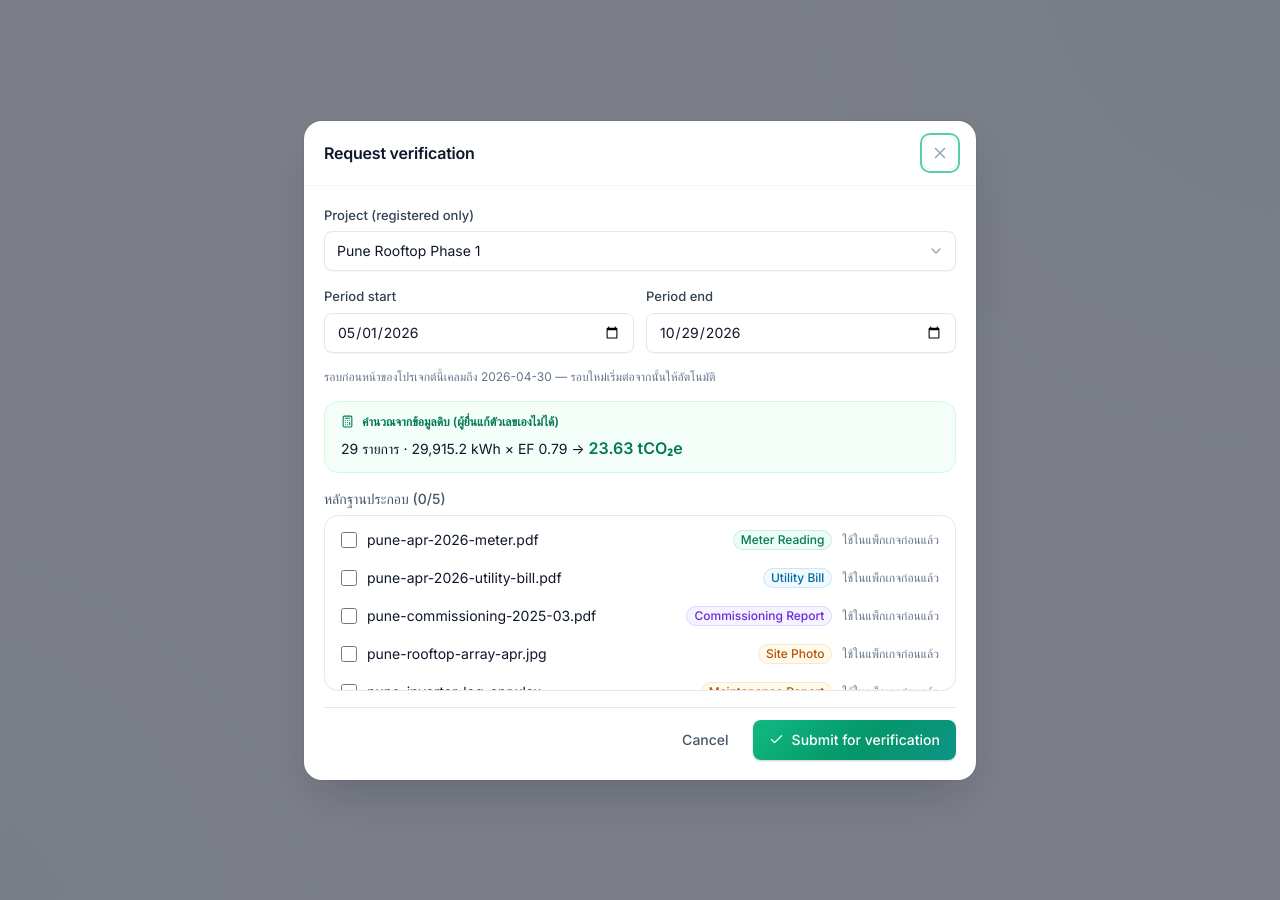
it: RequestVerificationModal › blocks submission when the period has no monitoring data
Type "1990-01-01" into the date field labelled "Period start". click: (479, 332)
box: [324,312,634,352]
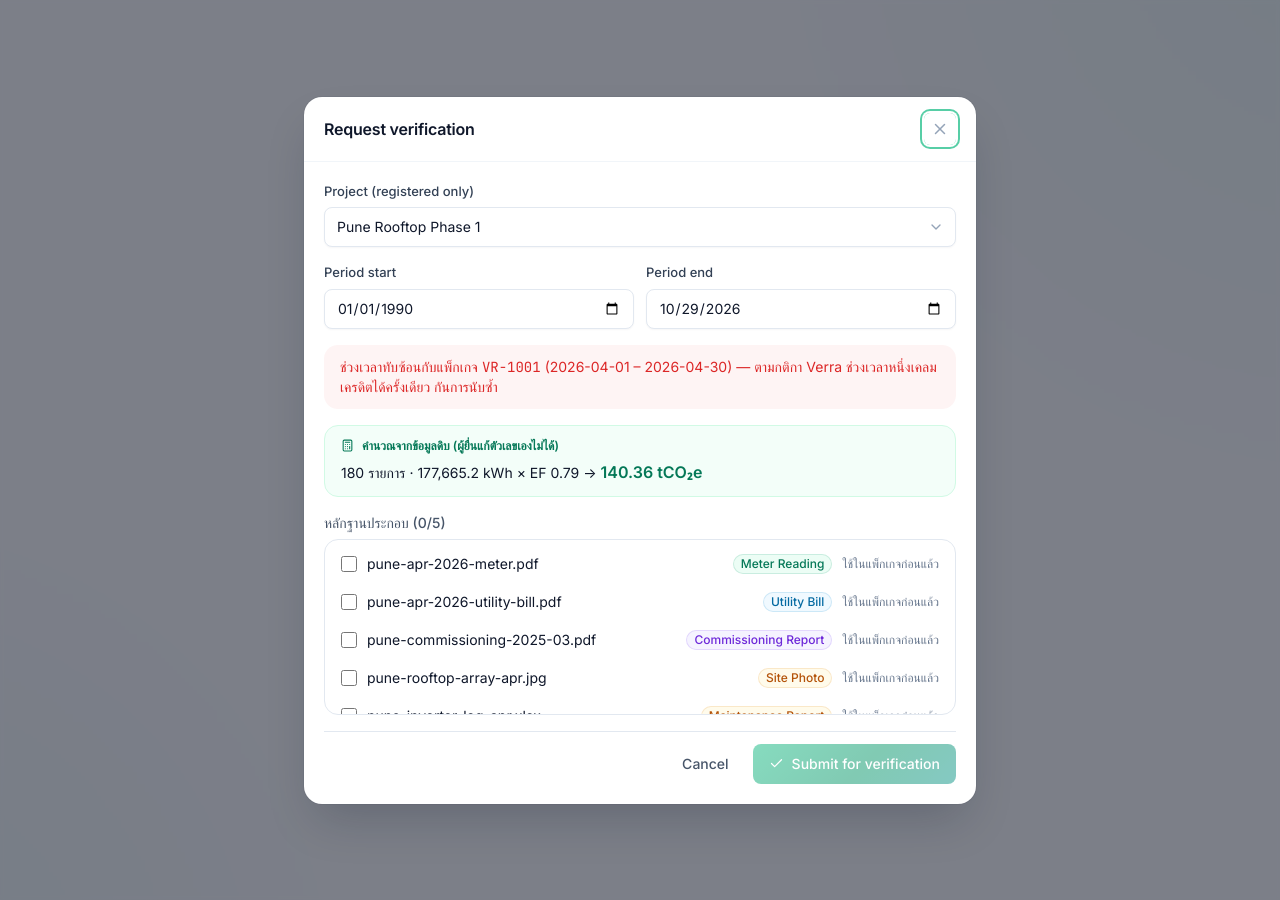
Type "1990-12-31" into the date field labelled "Period end". click: (801, 308)
box: [646,288,956,328]
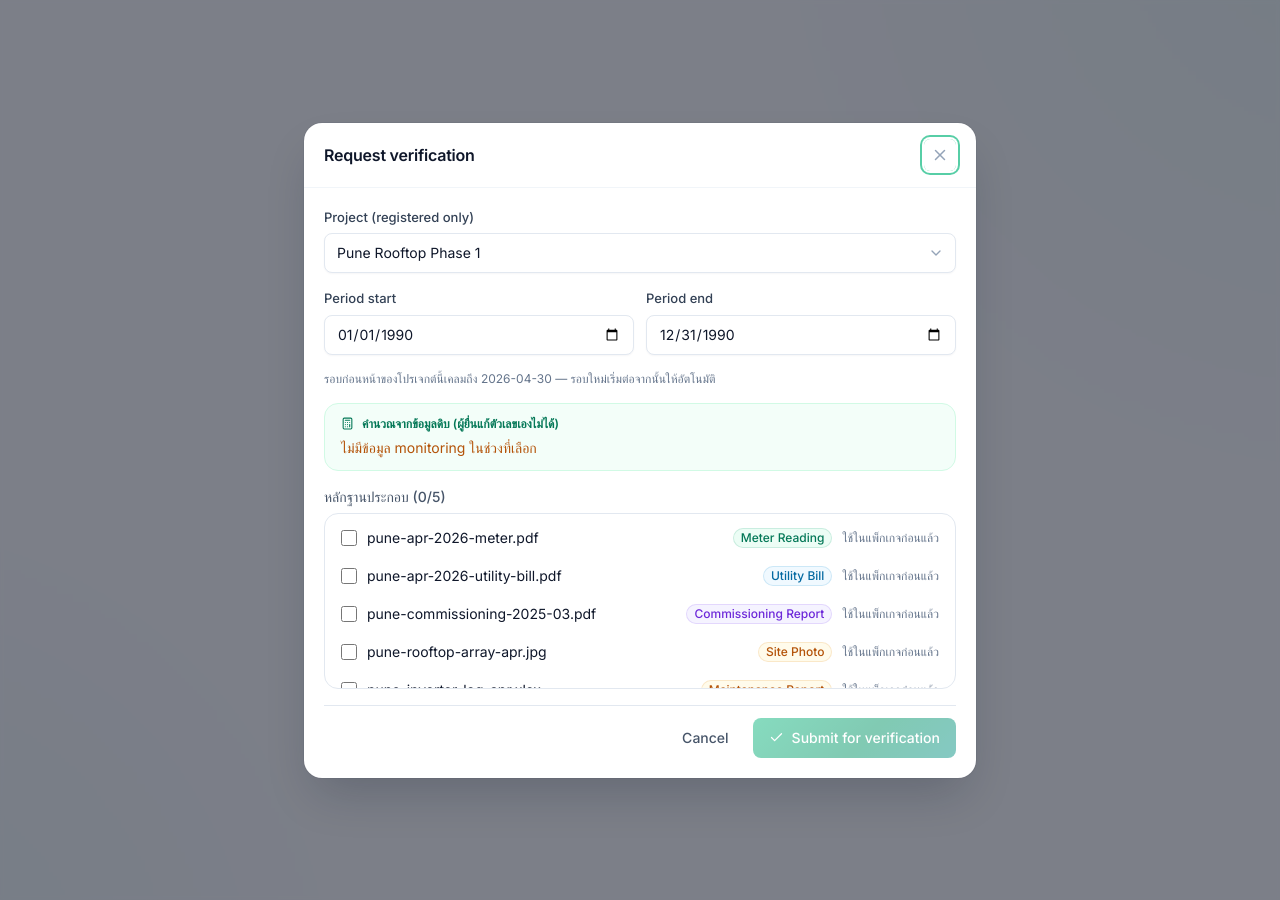
Expected: the button "Submit for verification" is disabled, [753,718,956,758]
Expected: the text "ไม่มีข้อมูล monitoring ในช่วงที่เลือก" is shown, [341,438,537,456]
